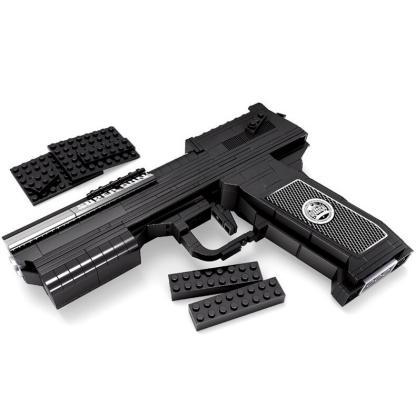Pistol: (3, 102, 415, 312)
